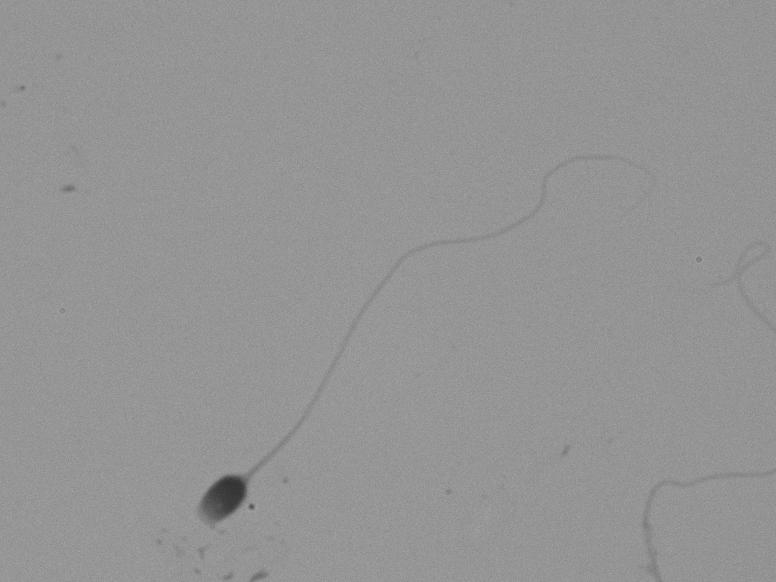Normal: (162, 85, 654, 540)
